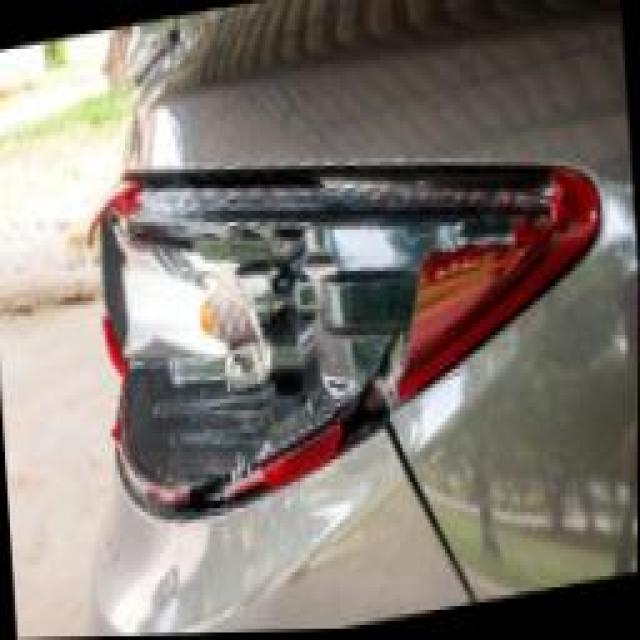Bumper: (95, 482, 318, 638)
Light: (105, 117, 549, 494)
